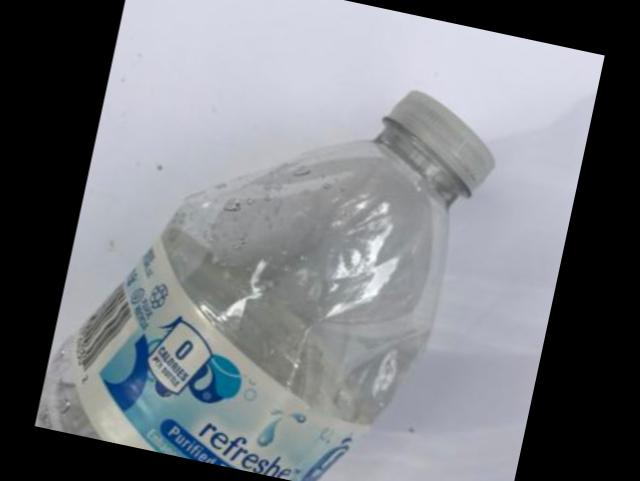plastic: (35, 90, 494, 481)
